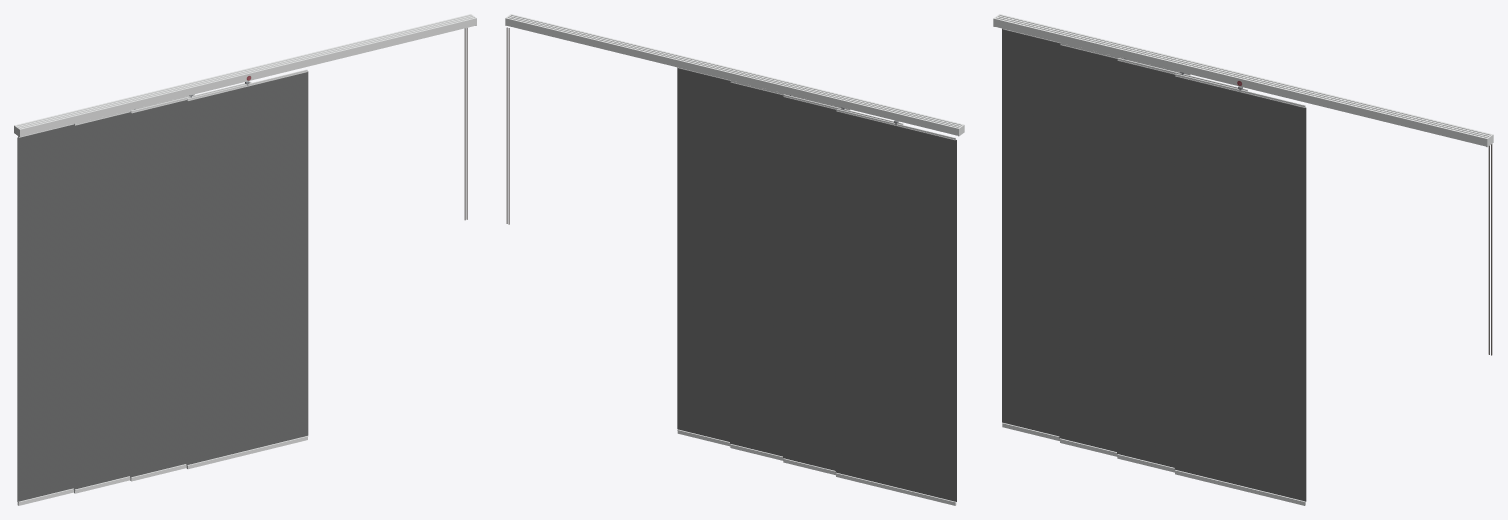
The model's file is before-panel-white-black-partial.glb.
3 renders of one model, left to right at view 1: azimuth 30°, elevation 25°; view 2: azimuth 150°, elevation 25°; view 3: azimuth 330°, elevation 25°, orthographic. The views are drawn at different scales.
Visible parts, largest first — view 1: PANEL_TELO_4, PANEL_TELO_2, PANEL_TELO_1, PANEL_TELO_3, PANEL_RAIL_PROFILE_WAY_4, PANEL_RAIL_PROFILE_WAY_2, PANEL_RAIL_PROFILE_WAY_1, PANEL_RAIL_PROFILE_WAY_3, PANEL_BOTTOM_WEIGHT_4; view 2: PANEL_TELO_1, PANEL_TELO_2, PANEL_TELO_3, PANEL_TELO_4, PANEL_RAIL_PROFILE_WAY_1, PANEL_RAIL_PROFILE_WAY_3, PANEL_RAIL_PROFILE_WAY_4, PANEL_RAIL_PROFILE_WAY_2, PANEL_BOTTOM_WEIGHT_1; view 3: PANEL_TELO_4, PANEL_TELO_3, PANEL_TELO_2, PANEL_TELO_1, PANEL_RAIL_PROFILE_WAY_4, PANEL_RAIL_PROFILE_WAY_2, PANEL_RAIL_PROFILE_WAY_1, PANEL_RAIL_PROFILE_WAY_3, PANEL_BOTTOM_WEIGHT_4.
Part boxes in pixels (x1=…): PANEL_TELO_4: x1=186, y1=71, x2=308, y2=465; PANEL_TELO_2: x1=73, y1=112, x2=130, y2=489; PANEL_TELO_1: x1=17, y1=124, x2=74, y2=501; PANEL_TELO_3: x1=130, y1=100, x2=186, y2=477; PANEL_RAIL_PROFILE_WAY_4: x1=20, y1=18, x2=475, y2=136; PANEL_RAIL_PROFILE_WAY_2: x1=17, y1=15, x2=472, y2=127; PANEL_RAIL_PROFILE_WAY_1: x1=15, y1=14, x2=470, y2=126; PANEL_RAIL_PROFILE_WAY_3: x1=19, y1=16, x2=473, y2=128; PANEL_BOTTOM_WEIGHT_4: x1=186, y1=436, x2=308, y2=469; PANEL_TELO_1: x1=835, y1=111, x2=956, y2=501; PANEL_TELO_2: x1=783, y1=96, x2=836, y2=470; PANEL_TELO_3: x1=730, y1=82, x2=783, y2=456; PANEL_TELO_4: x1=677, y1=67, x2=730, y2=441; PANEL_RAIL_PROFILE_WAY_1: x1=506, y1=17, x2=958, y2=135; PANEL_RAIL_PROFILE_WAY_3: x1=509, y1=15, x2=961, y2=126; PANEL_RAIL_PROFILE_WAY_4: x1=511, y1=14, x2=963, y2=125; PANEL_RAIL_PROFILE_WAY_2: x1=508, y1=16, x2=959, y2=127; PANEL_BOTTOM_WEIGHT_1: x1=836, y1=472, x2=956, y2=505; PANEL_TELO_4: x1=1174, y1=76, x2=1306, y2=501; PANEL_TELO_3: x1=1117, y1=60, x2=1175, y2=467; PANEL_TELO_2: x1=1059, y1=44, x2=1117, y2=451; PANEL_TELO_1: x1=1002, y1=28, x2=1060, y2=436; PANEL_RAIL_PROFILE_WAY_4: x1=994, y1=18, x2=1486, y2=146; PANEL_RAIL_PROFILE_WAY_2: x1=998, y1=15, x2=1490, y2=136; PANEL_RAIL_PROFILE_WAY_1: x1=999, y1=14, x2=1491, y2=135; PANEL_RAIL_PROFILE_WAY_3: x1=996, y1=17, x2=1488, y2=137; PANEL_BOTTOM_WEIGHT_4: x1=1174, y1=470, x2=1305, y2=505.
Size of the model in its own units: 3.02 by 2.4 by 0.088.
Materials: 5 (2 with a texture image).
